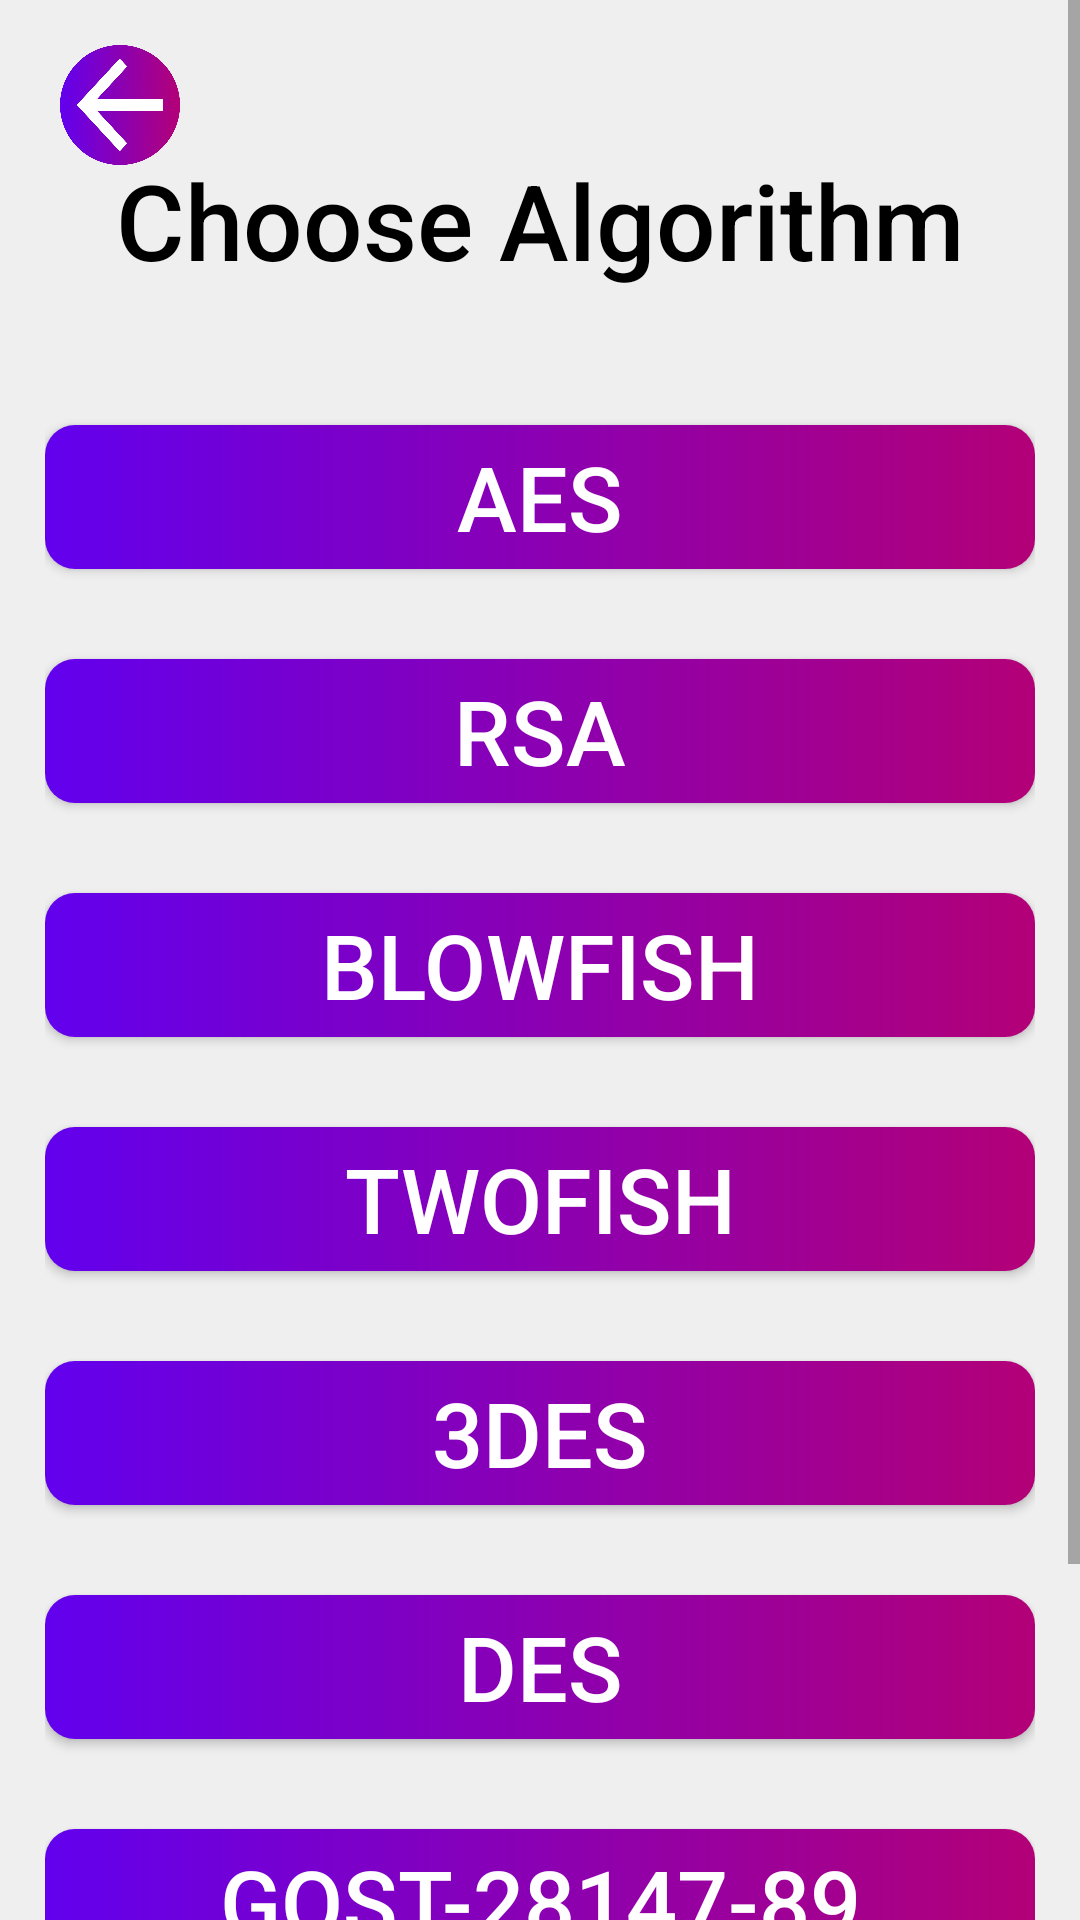

Point at icon controls on the screen. Image size 1080 x 1920, points as (x,y).
back: (120,105)
